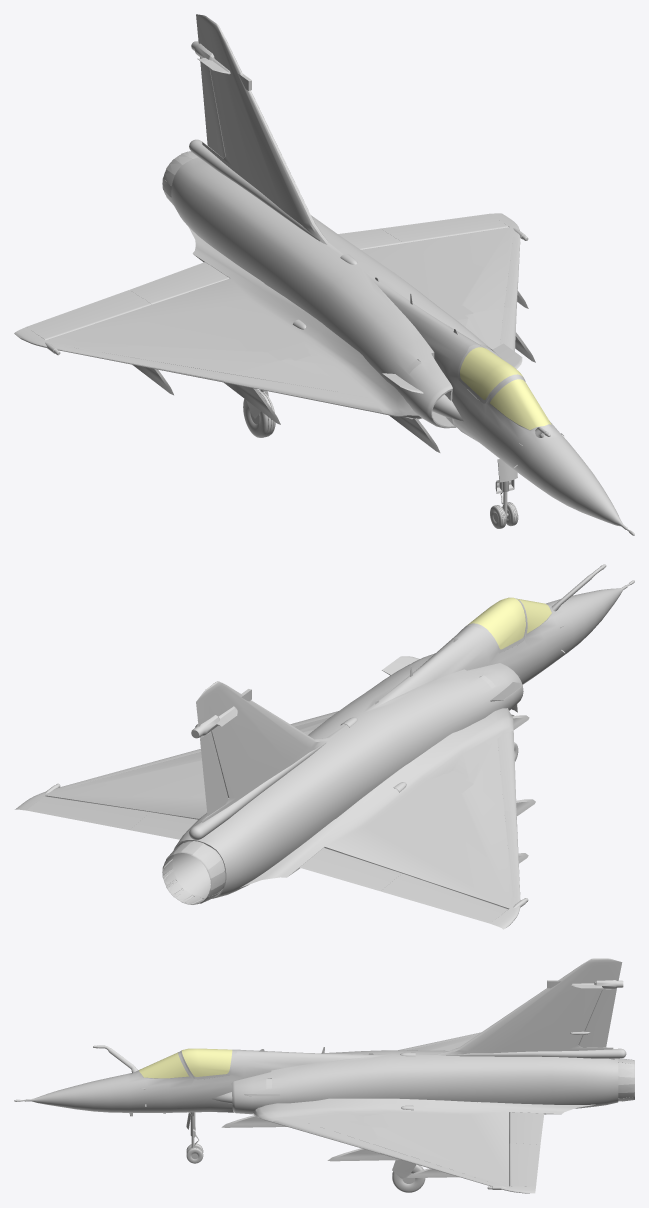
File: FigtherDelta.fbx
3 views of the same model, one above another, from view 1: azimuth 30°, elevation 25°; view 2: azimuth 150°, elevation 25°; view 3: azimuth 270°, elevation 25° (orthographic). The views are drawn at different scales.
Visible parts, largest first — view 1: fuselage, ailes, aileronD, aileronG, slatD1, elevonD, vitres, slatD2, intverriere, queue, direction, verriere (+5 smaller); view 2: fuselage, ailes, aileronD, trous, elevonD, aileronG, tuyere01.003, direction, intverriere, queue, slatD1, elevonG (+5 smaller); view 3: fuselage, ailes, direction, aileronG, verriere, queue, elevonG, slatG1, tuyere01.003, slatG2, intvitres, antennes (+3 smaller).
Part boxes in pixels (<box>): fuselage: <box>171,14,634,535</box>; ailes: <box>14,213,520,419</box>; aileronD: <box>26,290,151,340</box>; aileronG: <box>381,213,508,243</box>; slatD1: <box>224,374,382,413</box>; elevonD: <box>130,262,229,304</box>; vitres: <box>490,379,551,429</box>; slatD2: <box>61,346,230,382</box>; intverriere: <box>460,351,517,399</box>; queue: <box>189,139,319,241</box>; direction: <box>200,57,225,158</box>; verriere: <box>460,347,522,397</box>; fuselage: <box>175,580,634,897</box>; ailes: <box>15,708,520,929</box>; aileronD: <box>381,873,508,923</box>; trous: <box>45,660,509,909</box>; elevonD: <box>300,848,402,891</box>; aileronG: <box>26,796,150,829</box>; tuyere01.003: <box>162,841,225,904</box>; direction: <box>200,731,228,815</box>; intverriere: <box>476,597,525,649</box>; queue: <box>189,742,326,840</box>; slatD1: <box>497,731,516,813</box>; elevonG: <box>130,812,197,839</box>; fuselage: <box>14,958,622,1114</box>; ailes: <box>253,1035,595,1193</box>; direction: <box>578,989,616,1047</box>; aileronG: <box>509,1143,540,1186</box>; verriere: <box>182,1049,232,1076</box>; queue: <box>446,1048,626,1058</box>; elevonG: <box>509,1112,544,1144</box>; slatG1: <box>272,1118,383,1153</box>; tuyere01.003: <box>618,1058,634,1101</box>; slatG2: <box>380,1148,492,1185</box>; intvitres: <box>139,1053,188,1078</box>; antennes: <box>129,980,623,1116</box>.
Size of the model in its own units: 906 by 517 by 1435.
